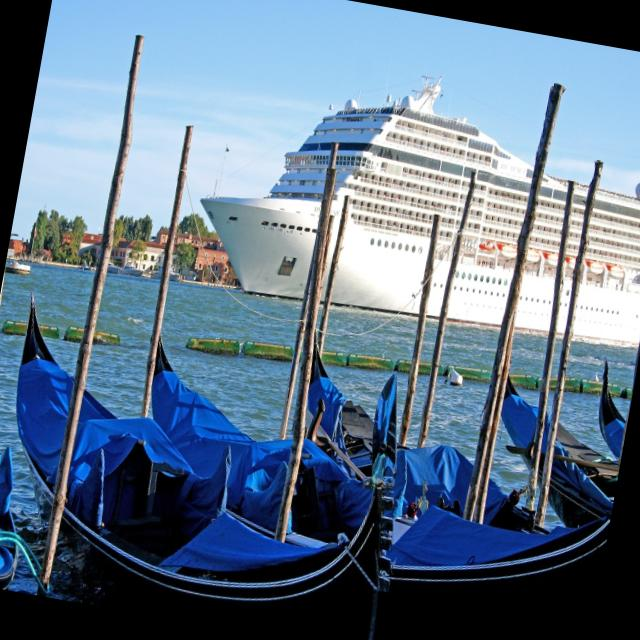boat: (100, 323, 629, 640), (0, 267, 414, 640)
